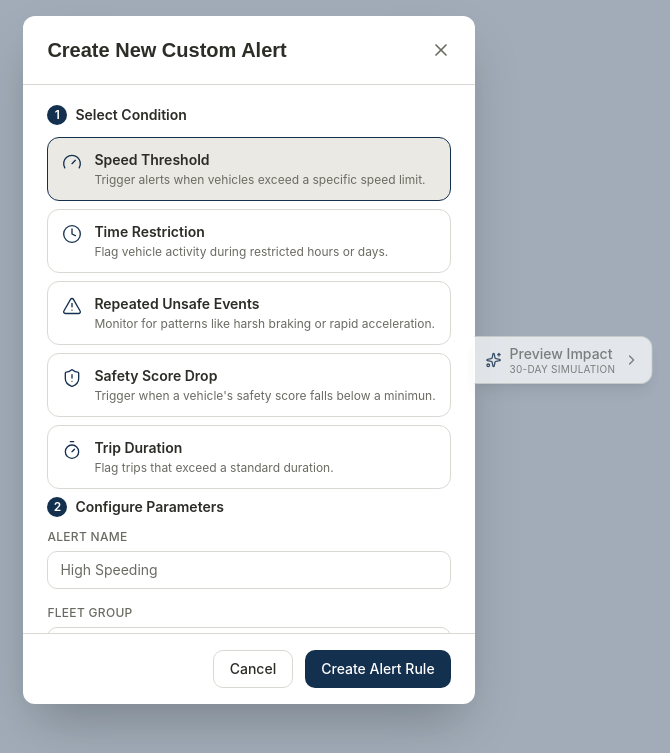
CreateAlertRuleModal › shows fleet_group_id validation error when name is filled but group is not
Type "Highway Speeding" into the field labelled "Alert Name" at {"x": 249, "y": 570}, box x1=47 y1=551 x2=451 y2=589
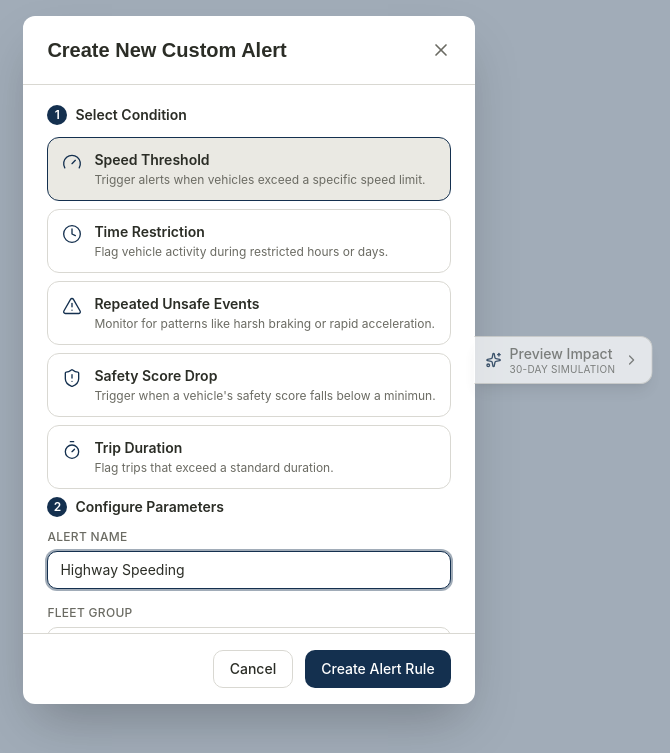
Click the button "Create Alert Rule" at {"x": 378, "y": 669}, box x1=305 y1=650 x2=451 y2=688
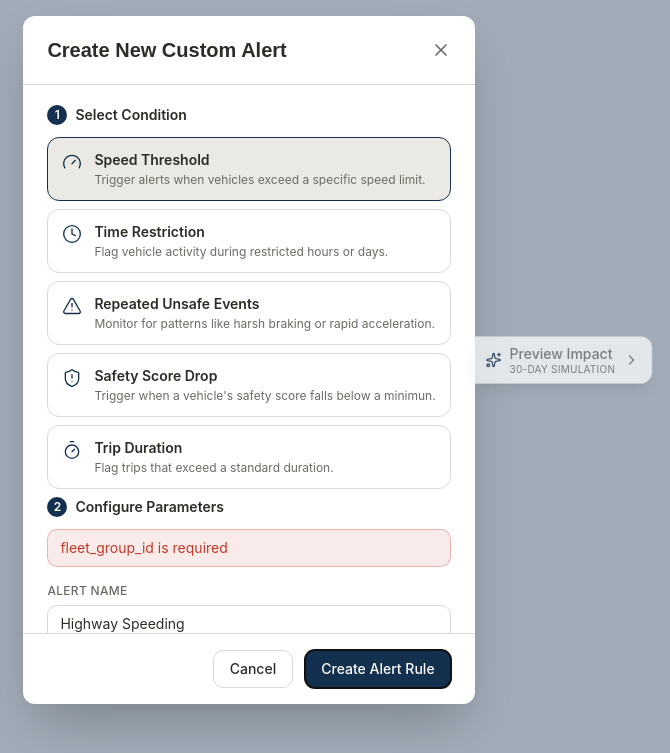
Check: the text "fleet_group_id is required" is shown, box x1=47 y1=529 x2=451 y2=567
